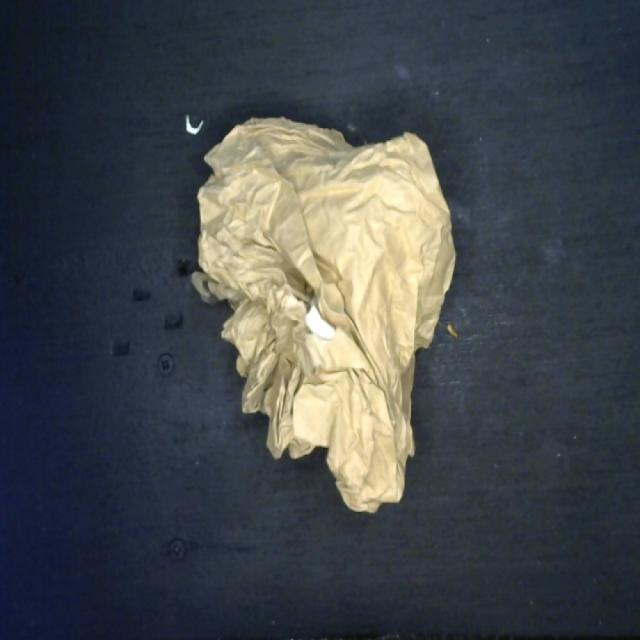biodegradable: (194, 116, 457, 522)
